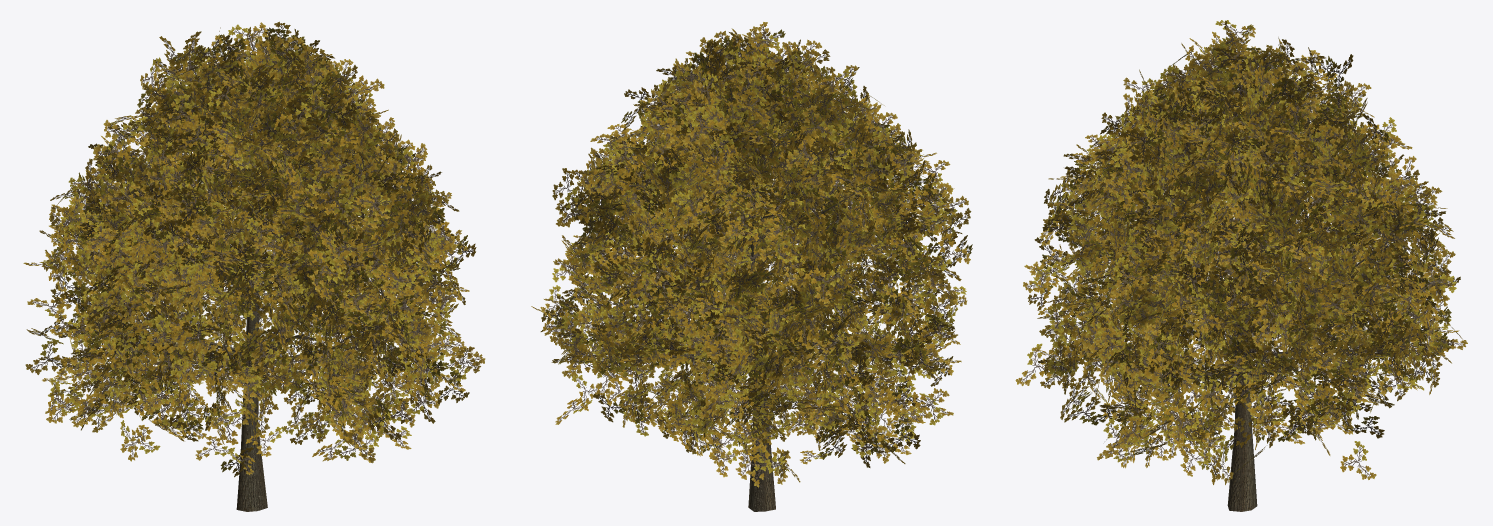
The model's file is Tilia_x_Europea_Autumn_Adult.glb.
The picture shows the model from 3 angles, left to right: view 1: azimuth 30°, elevation 25°; view 2: azimuth 150°, elevation 25°; view 3: azimuth 270°, elevation 25°; orthographic projection.
Parts seen in each view (by area): view 1: Tilia_x_Europea_Autumn_Adult__LOD3; view 2: Tilia_x_Europea_Autumn_Adult__LOD3; view 3: Tilia_x_Europea_Autumn_Adult__LOD3.
Boxes of the visible parts, bbox=[...] form: Tilia_x_Europea_Autumn_Adult__LOD3: bbox=[23, 21, 485, 511]; Tilia_x_Europea_Autumn_Adult__LOD3: bbox=[531, 22, 972, 511]; Tilia_x_Europea_Autumn_Adult__LOD3: bbox=[1015, 20, 1467, 511].
Bounding box in the file's own units: 23.29 × 26.36 × 23.
2 materials, 2 textured.
